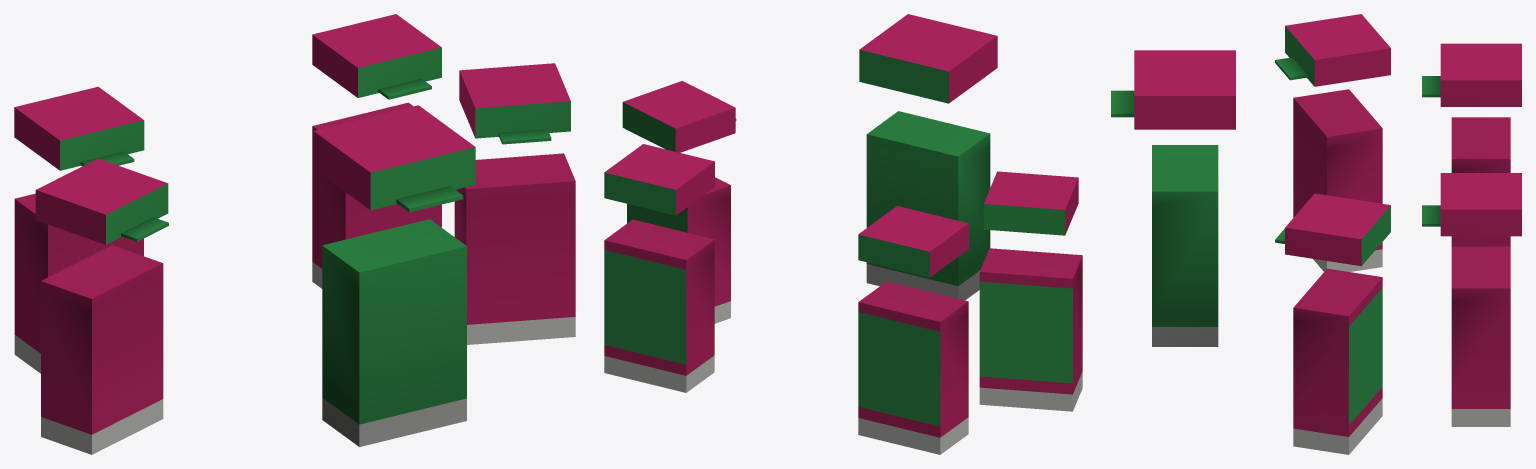
File: silks-stirrups-lod3.glb
The picture shows the model from 3 angles, left to right: view 1: azimuth 30°, elevation 25°; view 2: azimuth 150°, elevation 25°; view 3: azimuth 270°, elevation 25°; orthographic projection. The views are drawn at different scales.
Visible parts, largest first — view 1: cap_torso, att3_torso, att2_torso, cap_hat, att3_hat, att0_hat, att1_hat, att2_hat, att1_torso, att0_torso; view 2: att0_torso, att1_torso, att3_torso, cap_torso, cap_hat, att2_hat, att0_hat, att1_hat, att3_hat, att2_torso; view 3: att2_torso, cap_torso, att0_torso, att3_torso, cap_hat, att3_hat, att2_hat, att0_hat, att1_hat, att1_torso.
Part boxes in pixels (x1=…): cap_torso: x1=322, y1=219, x2=466, y2=446; att3_torso: x1=41, y1=245, x2=163, y2=454; att2_torso: x1=454, y1=153, x2=575, y2=344; cap_hat: x1=313, y1=105, x2=475, y2=212; att3_hat: x1=35, y1=158, x2=168, y2=244; att0_hat: x1=312, y1=14, x2=441, y2=99; att1_hat: x1=14, y1=86, x2=144, y2=170; att2_hat: x1=459, y1=63, x2=570, y2=144; att1_torso: x1=14, y1=193, x2=143, y2=373; att0_torso: x1=312, y1=102, x2=441, y2=288; att0_torso: x1=604, y1=219, x2=714, y2=392; att1_torso: x1=858, y1=281, x2=968, y2=454; att3_torso: x1=979, y1=248, x2=1082, y2=411; cap_torso: x1=866, y1=111, x2=990, y2=300; cap_hat: x1=859, y1=14, x2=997, y2=103; att2_hat: x1=622, y1=81, x2=736, y2=152; att0_hat: x1=604, y1=144, x2=714, y2=215; att1_hat: x1=858, y1=206, x2=968, y2=277; att3_hat: x1=983, y1=171, x2=1078, y2=235; att2_torso: x1=627, y1=177, x2=730, y2=323; att2_torso: x1=1293, y1=268, x2=1382, y2=454; cap_torso: x1=1152, y1=145, x2=1218, y2=346; att0_torso: x1=1451, y1=246, x2=1510, y2=426; att3_torso: x1=1293, y1=89, x2=1382, y2=271; cap_hat: x1=1111, y1=50, x2=1235, y2=129; att3_hat: x1=1275, y1=14, x2=1390, y2=86; att2_hat: x1=1275, y1=193, x2=1390, y2=266; att0_hat: x1=1422, y1=173, x2=1521, y2=236; att1_hat: x1=1422, y1=43, x2=1521, y2=106; att1_torso: x1=1451, y1=117, x2=1510, y2=246.
Bounding box in the file's own units: 2.18 × 1.2 × 1.66.
